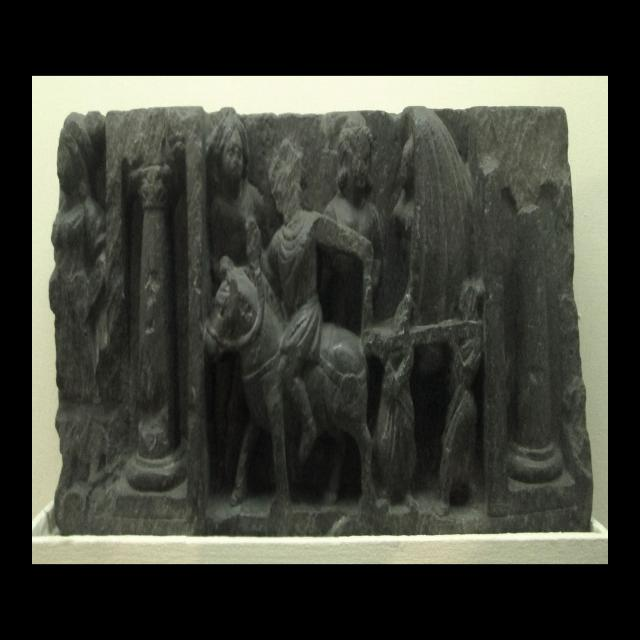buddha-horse-riding: (205, 140, 375, 531)
